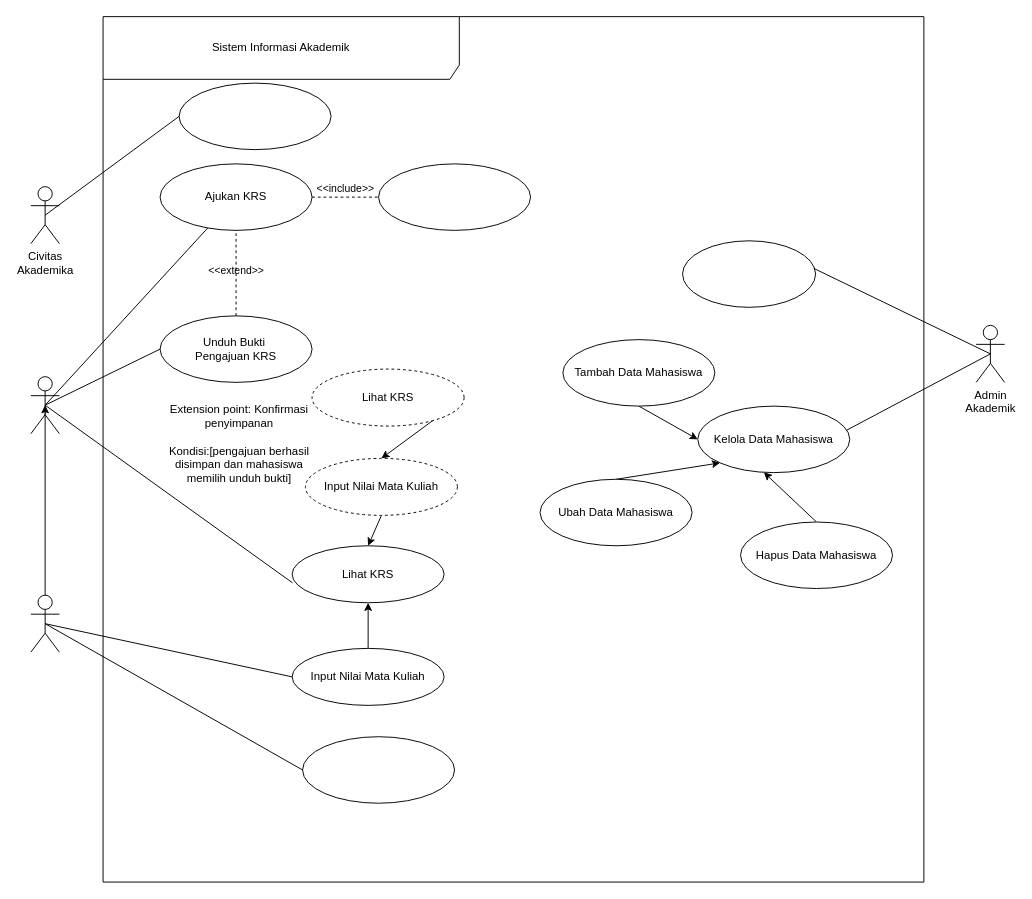
The diagram is 1032 pixels wide and 899 high, and some of its shapes have lost their labels. The centre of each missing label's shape, as x and y in pixels:
"Dosen" belongs at (44,623).
"Kelola Jadwal kuliah" belongs at (749,273).
"Lihat Kalender Akademik" belongs at (254,116).
"Mahasiswa" belongs at (44,405).
"Proses Keputusan KRS" belongs at (378,769).
"Validasi KRS" belongs at (454,196).
